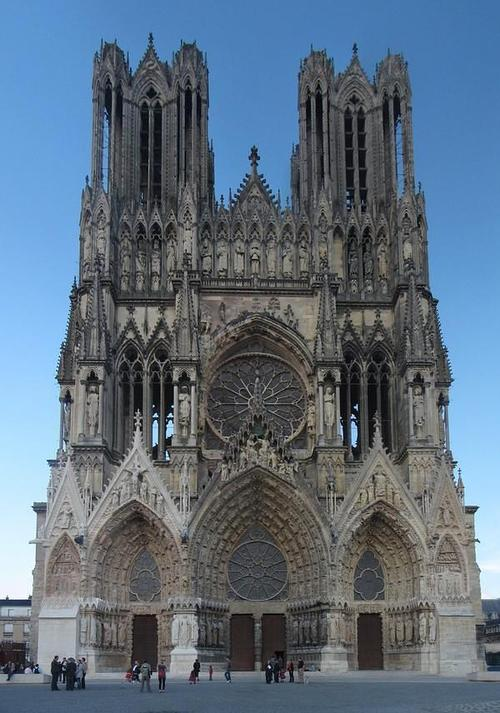buildings: (45, 105, 489, 697)
